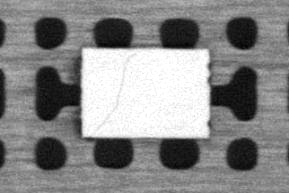DIE_CRACK: (92, 52, 137, 134)
